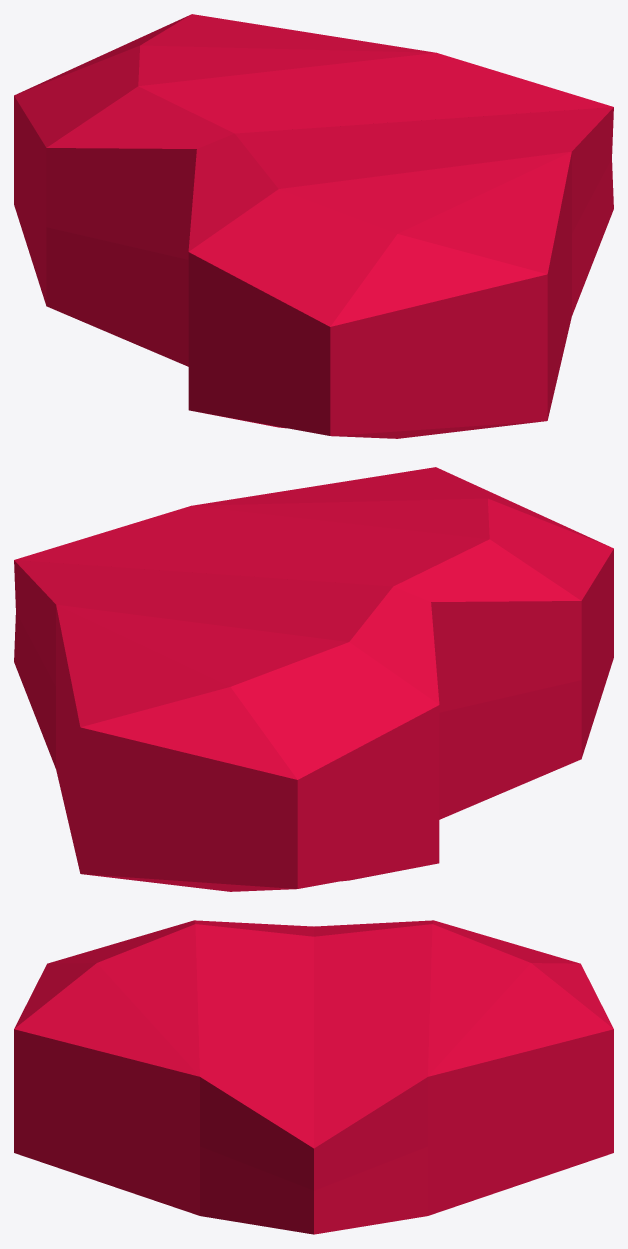
The model's file is Heart_room.fbx.
The picture shows the model from 3 angles, top to bottom: view 1: azimuth 30°, elevation 25°; view 2: azimuth 150°, elevation 25°; view 3: azimuth 270°, elevation 25°; orthographic projection. The views are drawn at different scales.
Visible parts, largest first — view 1: Heart; view 2: Heart; view 3: Heart.
Part boxes in pixels (<box>): Heart: <box>14,14,613,438</box>; Heart: <box>14,467,613,891</box>; Heart: <box>14,920,613,1234</box>.
Size of the model in its own units: 413 by 190 by 512.
